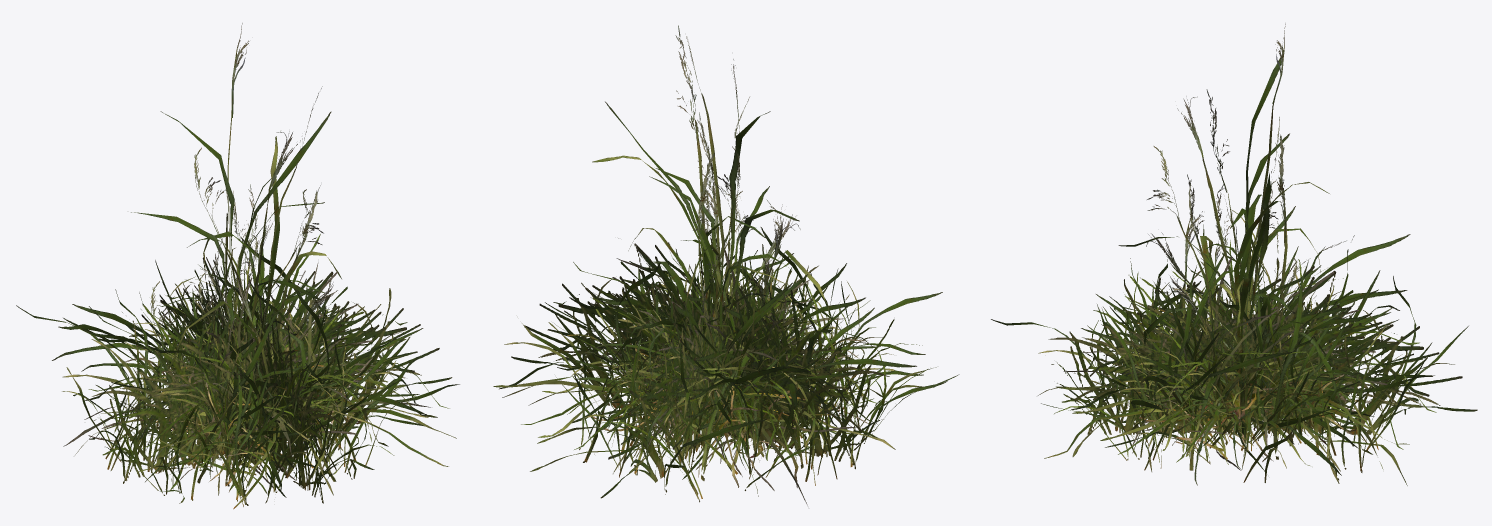
Rendered from grass.glb.
3 renders of one model, left to right at view 1: azimuth 30°, elevation 25°; view 2: azimuth 150°, elevation 25°; view 3: azimuth 270°, elevation 25°, orthographic. The views are drawn at different scales.
Parts seen in each view (by area): view 1: grass_large_a_lod0, grass_large_c_lod0, grass_large_b_lod0, grass_mid_a_lod0, grass_tall_a_lod0, grass_tall_b_lod0, grass_mid_c_lod0, grass_mid_b_lod0, grass_tall_c_lod0, grass_small_a_lod0, grass_small_b_lod0; view 2: grass_large_a_lod0, grass_large_b_lod0, grass_large_c_lod0, grass_mid_a_lod0, grass_tall_a_lod0, grass_tall_b_lod0, grass_mid_c_lod0, grass_mid_b_lod0, grass_tall_c_lod0, grass_small_a_lod0; view 3: grass_large_a_lod0, grass_large_b_lod0, grass_large_c_lod0, grass_mid_a_lod0, grass_tall_a_lod0, grass_tall_b_lod0, grass_mid_c_lod0, grass_tall_c_lod0, grass_mid_b_lod0, grass_small_b_lod0, grass_small_a_lod0.
Part boxes in pixels (bbox=[...]): grass_large_a_lod0: bbox=[16, 226, 452, 509]; grass_large_c_lod0: bbox=[72, 266, 459, 493]; grass_large_b_lod0: bbox=[52, 234, 456, 495]; grass_mid_a_lod0: bbox=[63, 185, 430, 483]; grass_tall_a_lod0: bbox=[131, 23, 331, 341]; grass_tall_b_lod0: bbox=[168, 86, 341, 414]; grass_mid_c_lod0: bbox=[147, 300, 375, 485]; grass_mid_b_lod0: bbox=[88, 231, 353, 497]; grass_tall_c_lod0: bbox=[146, 190, 358, 450]; grass_small_a_lod0: bbox=[130, 285, 355, 506]; grass_small_b_lod0: bbox=[141, 314, 377, 490]; grass_large_a_lod0: bbox=[504, 244, 959, 502]; grass_large_b_lod0: bbox=[493, 216, 895, 473]; grass_large_c_lod0: bbox=[499, 227, 925, 490]; grass_mid_a_lod0: bbox=[590, 112, 844, 505]; grass_tall_a_lod0: bbox=[602, 36, 799, 436]; grass_tall_b_lod0: bbox=[592, 25, 830, 422]; grass_mid_c_lod0: bbox=[572, 271, 868, 479]; grass_mid_b_lod0: bbox=[590, 189, 874, 487]; grass_tall_c_lod0: bbox=[647, 153, 814, 451]; grass_small_a_lod0: bbox=[619, 230, 877, 461]; grass_large_a_lod0: bbox=[991, 206, 1477, 485]; grass_large_b_lod0: bbox=[1038, 209, 1440, 485]; grass_large_c_lod0: bbox=[1063, 234, 1434, 475]; grass_mid_a_lod0: bbox=[1082, 174, 1387, 445]; grass_tall_a_lod0: bbox=[1118, 23, 1346, 436]; grass_tall_b_lod0: bbox=[1137, 89, 1329, 442]; grass_mid_c_lod0: bbox=[1081, 224, 1374, 471]; grass_tall_c_lod0: bbox=[1146, 134, 1291, 430]; grass_mid_b_lod0: bbox=[1104, 208, 1359, 445]; grass_small_b_lod0: bbox=[1105, 279, 1371, 461]; grass_small_a_lod0: bbox=[1124, 258, 1349, 449].
Size of what is drawn, in the model's own units: 0.327 by 0.3225 by 0.3317.
1 material, 1 textured.
